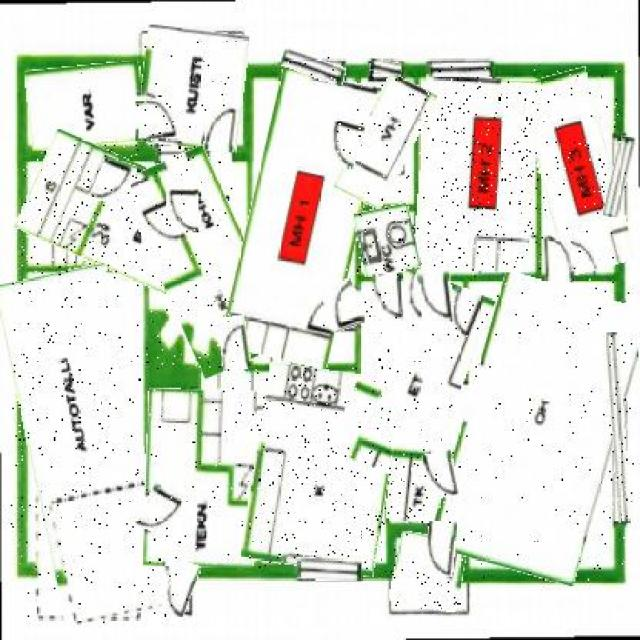door: (140, 486, 183, 537), (94, 157, 134, 206), (323, 282, 362, 331), (418, 271, 454, 323), (165, 560, 197, 617), (326, 120, 363, 168), (426, 521, 457, 577), (137, 98, 177, 140), (372, 274, 406, 323), (218, 317, 250, 369), (205, 103, 237, 152), (425, 451, 457, 498), (166, 190, 199, 232), (545, 234, 572, 280)
window: (611, 332, 629, 523), (282, 52, 346, 83), (608, 135, 632, 217), (297, 557, 361, 580), (429, 65, 491, 77), (369, 61, 402, 74)
zone: (446, 278, 634, 580), (11, 268, 157, 623), (234, 71, 374, 366), (248, 368, 394, 574), (138, 149, 271, 374), (346, 269, 479, 482), (22, 145, 202, 280), (417, 75, 537, 271), (145, 389, 257, 568), (529, 69, 625, 274), (139, 28, 246, 150), (26, 63, 145, 149), (348, 76, 424, 206), (389, 448, 466, 523), (392, 534, 466, 611), (357, 207, 418, 276)
